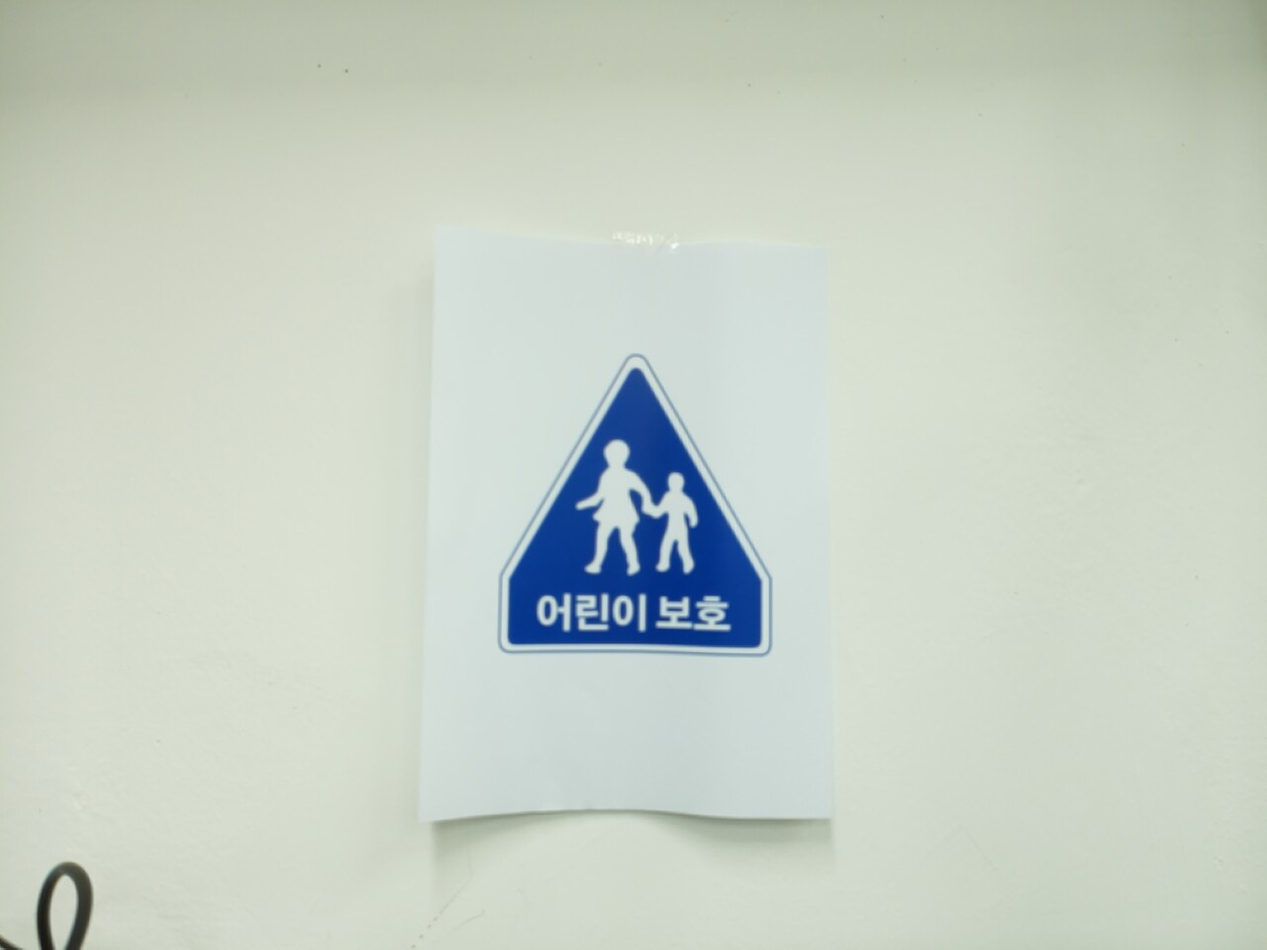school_zone: (498, 359, 771, 657)
